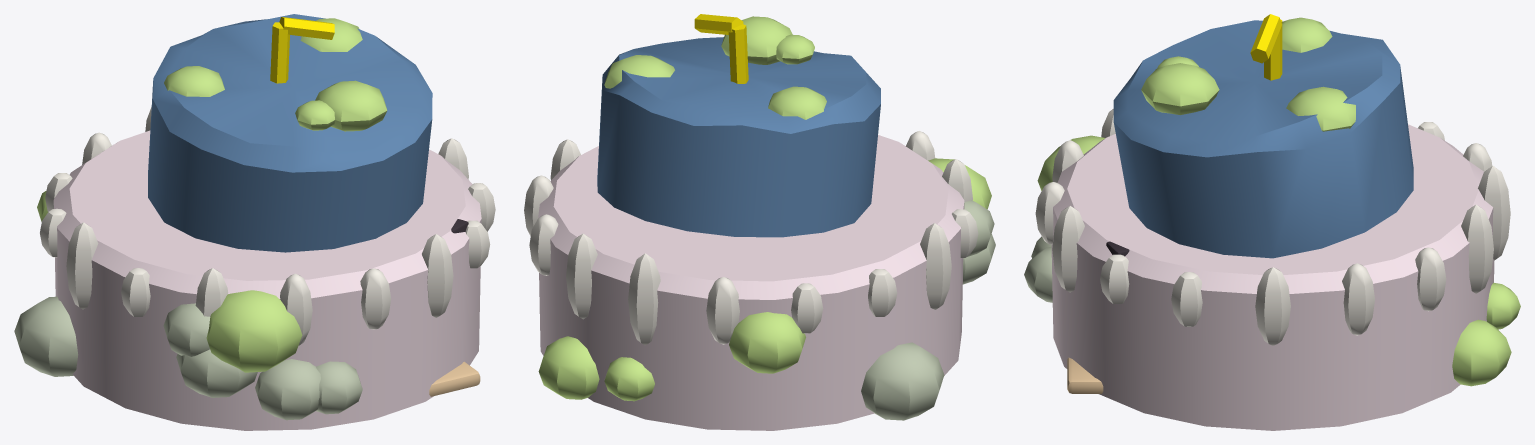
File: TW_MoldyCake.fbx
The picture shows the model from 3 angles, left to right: view 1: azimuth 30°, elevation 25°; view 2: azimuth 150°, elevation 25°; view 3: azimuth 270°, elevation 25°; orthographic projection. The views are drawn at different scales.
Visible parts, largest first — view 1: Body; view 2: Body; view 3: Body.
Boxes of the visible parts, x1,y1,x2,y2 form: Body: (14, 14, 495, 430); Body: (524, 14, 995, 430); Body: (1024, 14, 1520, 430).
Size of the model in its own units: 3.61 by 2.74 by 3.62.
